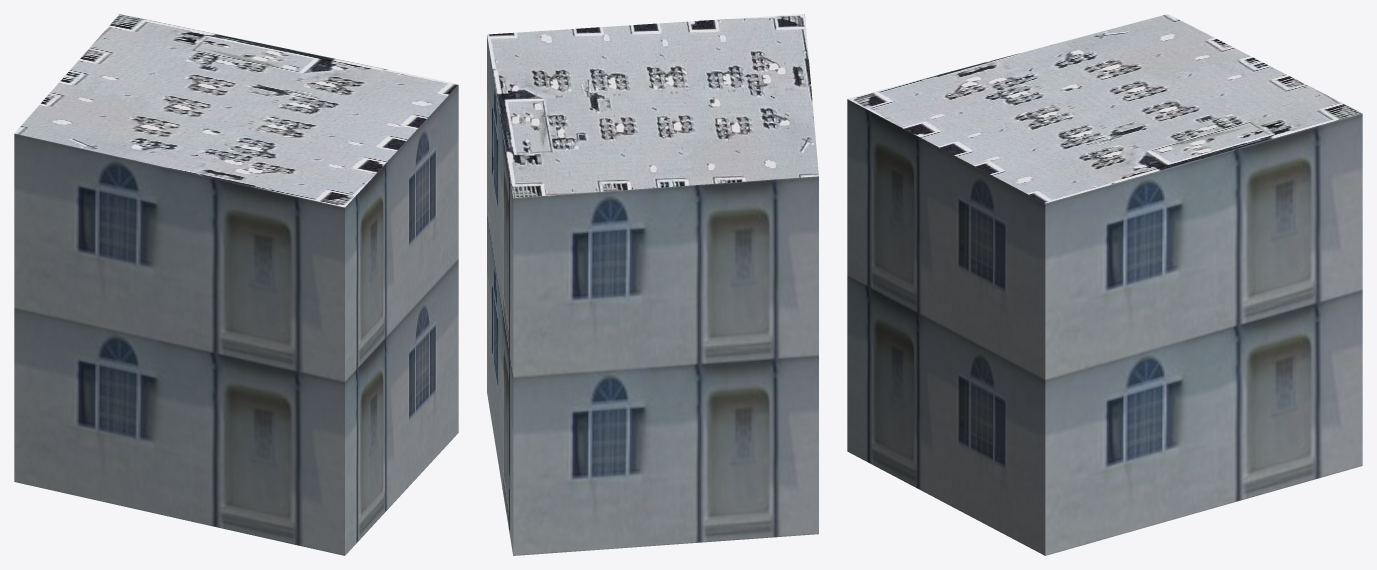
File: ResTex__3500.fbx
3 renders of one model, left to right at view 1: azimuth 30°, elevation 25°; view 2: azimuth 150°, elevation 25°; view 3: azimuth 270°, elevation 25°, orthographic. The views are drawn at different scales.
Visible parts, largest first — view 1: CityEngineMaterial_17_m, CityEngineMaterial_m; view 2: CityEngineMaterial_17_m, CityEngineMaterial_m; view 3: CityEngineMaterial_17_m, CityEngineMaterial_m.
Boxes of the visible parts, left/top/right/bottom form: CityEngineMaterial_17_m: left=14, top=85, right=458, bottom=555; CityEngineMaterial_m: left=14, top=14, right=458, bottom=207; CityEngineMaterial_17_m: left=487, top=35, right=818, bottom=555; CityEngineMaterial_m: left=487, top=14, right=818, bottom=197; CityEngineMaterial_17_m: left=847, top=99, right=1362, bottom=555; CityEngineMaterial_m: left=848, top=14, right=1362, bottom=203.
Bounding box in the file's own units: 6.92 × 6 × 7.95.
2 materials, 2 textured.
